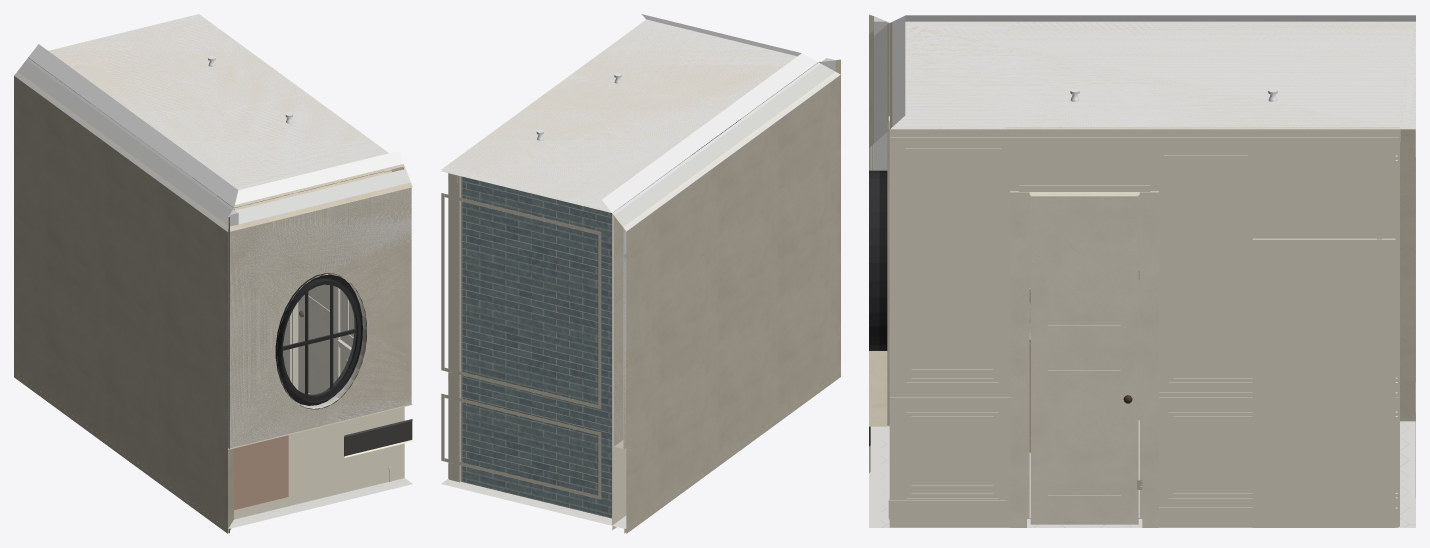
The model's file is blue-bath-c84799f758bd.glb.
The picture shows the model from 3 angles, left to right: view 1: azimuth 30°, elevation 25°; view 2: azimuth 150°, elevation 25°; view 3: azimuth 270°, elevation 25°; orthographic projection. The views are drawn at different scales.
Parts seen in each view (by area): view 1: blue-bath-312b4ac1be39223d, blue-bath-bddaf205afbd60c0, blue-bath-e8793759323e04f0, blue-bath-9d91b47435c6fb33, blue-bath-33ee0b466567e5f0, blue-bath-df3e1f21720b0c39, blue-bath-d227da791438a32f, blue-bath-2f7d8eff34a2c180, blue-bath-39b94aca90fa4b53, blue-bath-bb2a37e95c56944b, blue-bath-bf159a19de53e60e, blue-bath-64753ebcb3824a84 (+7 smaller); view 2: blue-bath-312b4ac1be39223d, blue-bath-81319d6284883901, blue-bath-9d91b47435c6fb33, blue-bath-e8793759323e04f0, blue-bath-33ee0b466567e5f0, blue-bath-39b94aca90fa4b53, blue-bath-ed5fdcd3ee9c0dd5, blue-bath-3a4d9d62ecd7be1c, blue-bath-06754748489735a0, blue-bath-6e269356ae8bfd70, blue-bath-b63ee86b16afd4c0, blue-bath-0e16aad907f7d881 (+1 smaller); view 3: blue-bath-9d91b47435c6fb33, blue-bath-ed5fdcd3ee9c0dd5, blue-bath-ead09a0b3f9e3bd9, blue-bath-bf159a19de53e60e, blue-bath-3e649b0d114ae387, blue-bath-e8793759323e04f0, blue-bath-8798d08755b4aa77, blue-bath-8f5d8501f6e548f5, blue-bath-6e269356ae8bfd70, blue-bath-0e16aad907f7d881, blue-bath-d8e4d1e2b1f6ec6c, blue-bath-d227da791438a32f (+18 smaller).
Part boxes in pixels (box(x1,y1,x2,y2)): blue-bath-312b4ac1be39223d: box(14, 73, 229, 449); blue-bath-bddaf205afbd60c0: box(230, 182, 411, 447); blue-bath-e8793759323e04f0: box(30, 14, 403, 204); blue-bath-9d91b47435c6fb33: box(28, 14, 404, 207); blue-bath-33ee0b466567e5f0: box(14, 293, 228, 533); blue-bath-df3e1f21720b0c39: box(229, 184, 412, 448); blue-bath-d227da791438a32f: box(275, 273, 366, 409); blue-bath-2f7d8eff34a2c180: box(228, 404, 412, 533); blue-bath-39b94aca90fa4b53: box(17, 60, 238, 226); blue-bath-bb2a37e95c56944b: box(234, 435, 288, 509); blue-bath-bf159a19de53e60e: box(298, 183, 335, 394); blue-bath-64753ebcb3824a84: box(235, 169, 410, 407); blue-bath-312b4ac1be39223d: box(624, 59, 840, 449); blue-bath-81319d6284883901: box(462, 177, 611, 518); blue-bath-9d91b47435c6fb33: box(441, 19, 817, 212); blue-bath-e8793759323e04f0: box(442, 14, 815, 210); blue-bath-33ee0b466567e5f0: box(612, 293, 840, 533); blue-bath-39b94aca90fa4b53: box(614, 58, 835, 447); blue-bath-ed5fdcd3ee9c0dd5: box(449, 173, 460, 482); blue-bath-3a4d9d62ecd7be1c: box(612, 61, 821, 446); blue-bath-06754748489735a0: box(441, 193, 601, 408); blue-bath-6e269356ae8bfd70: box(441, 170, 618, 524); blue-bath-b63ee86b16afd4c0: box(441, 393, 601, 499); blue-bath-0e16aad907f7d881: box(441, 478, 626, 528); blue-bath-9d91b47435c6fb33: box(890, 21, 1415, 129); blue-bath-ed5fdcd3ee9c0dd5: box(1005, 127, 1399, 526); blue-bath-ead09a0b3f9e3bd9: box(1252, 238, 1395, 527); blue-bath-bf159a19de53e60e: box(1030, 195, 1138, 524); blue-bath-3e649b0d114ae387: box(889, 121, 1005, 499); blue-bath-e8793759323e04f0: box(892, 15, 1415, 126); blue-bath-8798d08755b4aa77: box(1010, 191, 1158, 527); blue-bath-8f5d8501f6e548f5: box(889, 129, 1398, 146); blue-bath-6e269356ae8bfd70: box(1398, 127, 1415, 527); blue-bath-0e16aad907f7d881: box(869, 421, 1415, 527); blue-bath-d8e4d1e2b1f6ec6c: box(906, 156, 998, 382); blue-bath-d227da791438a32f: box(869, 170, 887, 350).
Bounding box in the file's own units: 1.8 × 3.04 × 3.6.
29 materials, 6 textured.
